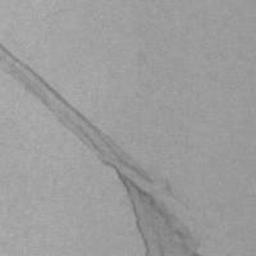Water spot: (0, 42, 201, 256)
